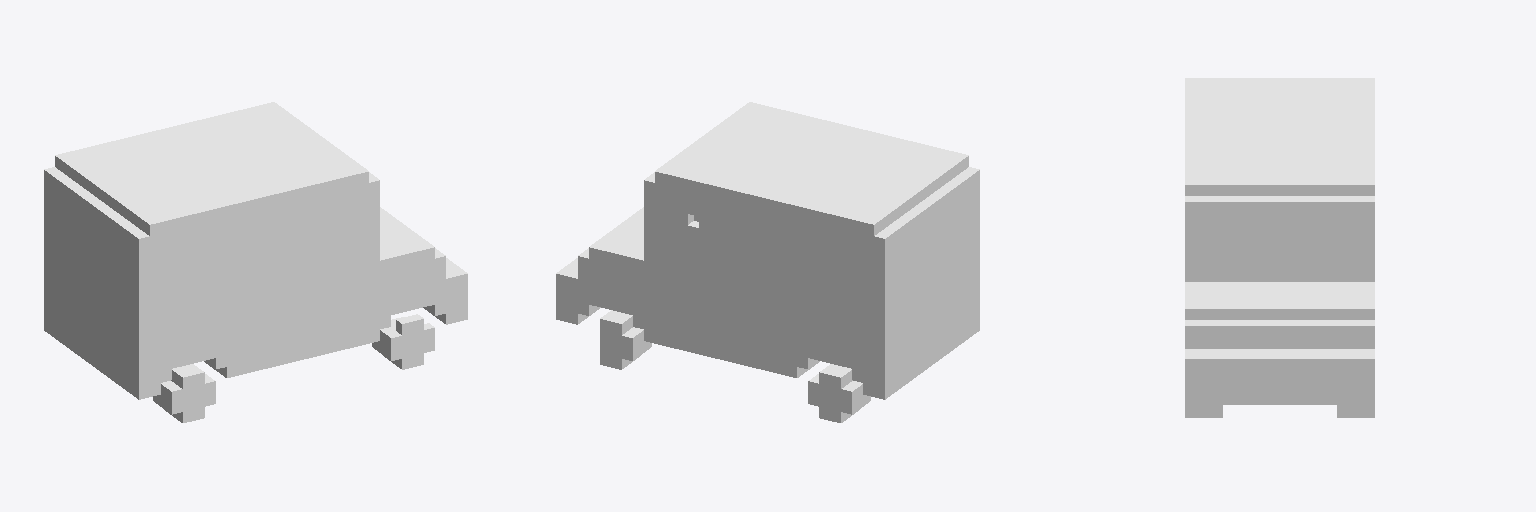
File: Mingeu.obj
The picture shows the model from 3 angles: view 1: azimuth 30°, elevation 25°; view 2: azimuth 150°, elevation 25°; view 3: azimuth 270°, elevation 25°; orthographic projection.
Bounding box in the file's own units: 30 × 18 × 15.